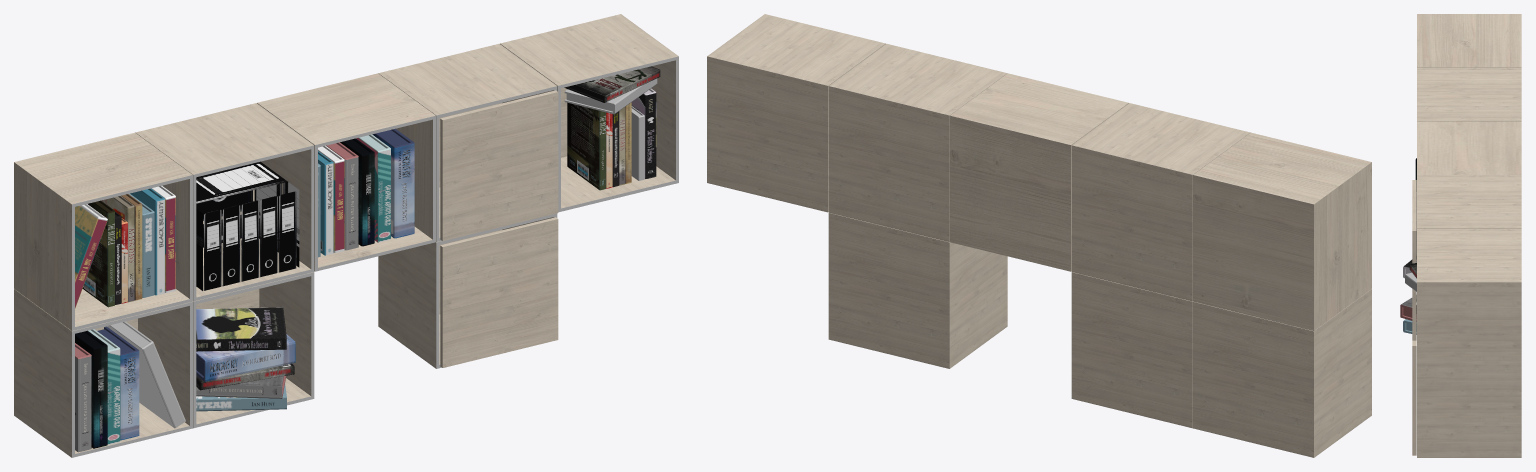
The model's file is libreria.fbx.
The picture shows the model from 3 angles, left to right: view 1: azimuth 30°, elevation 25°; view 2: azimuth 150°, elevation 25°; view 3: azimuth 270°, elevation 25°; orthographic projection. The views are drawn at different scales.
Visible parts, largest first — view 1: Libreria; view 2: Libreria; view 3: Libreria.
Part boxes in pixels (bbox=[...]): Libreria: bbox=[14, 14, 678, 457]; Libreria: bbox=[707, 14, 1371, 457]; Libreria: bbox=[1400, 14, 1521, 457].
Size of the model in its own units: 168 by 67.2 by 32.28.
